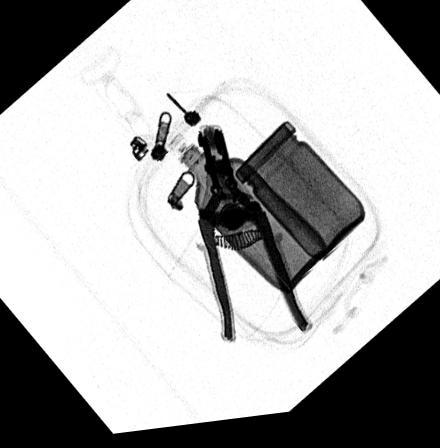Pliers: (194, 129, 312, 349)
